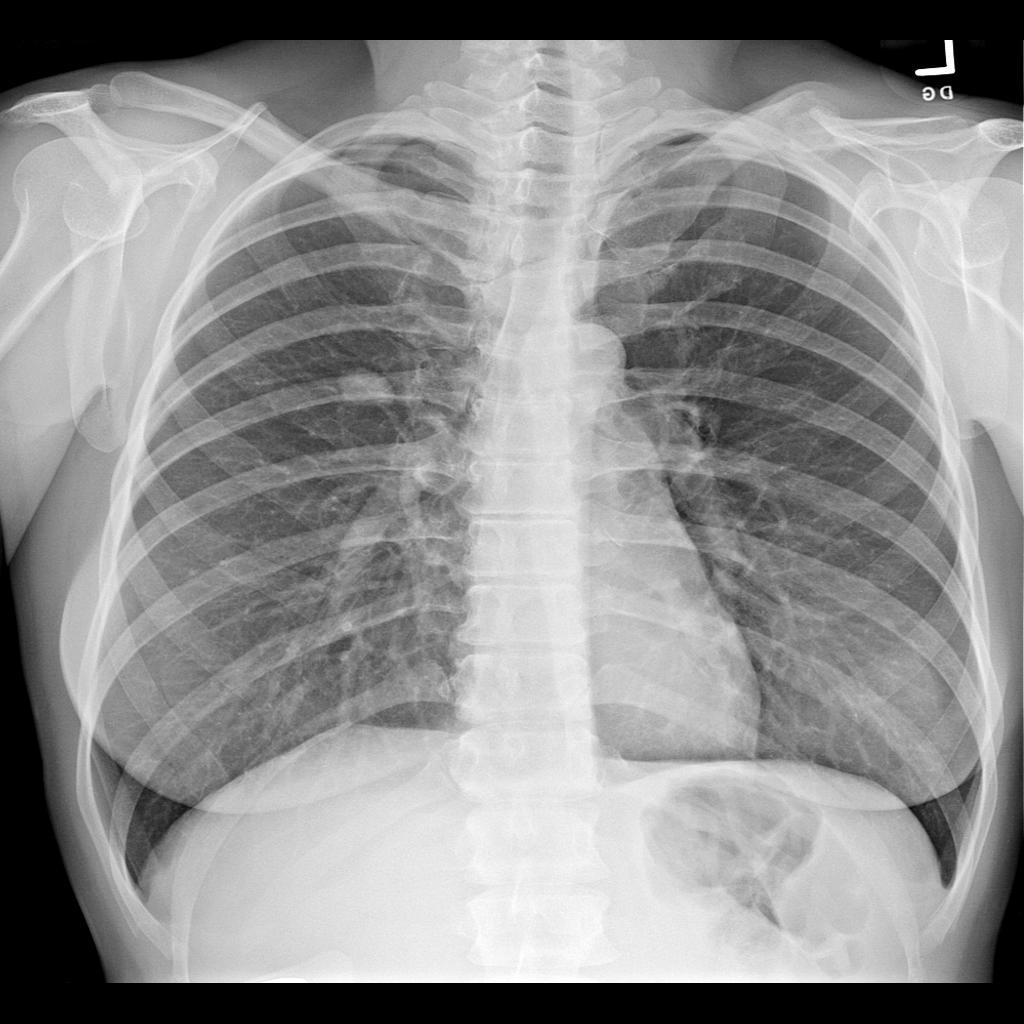Nodule: (330, 361, 396, 417)
